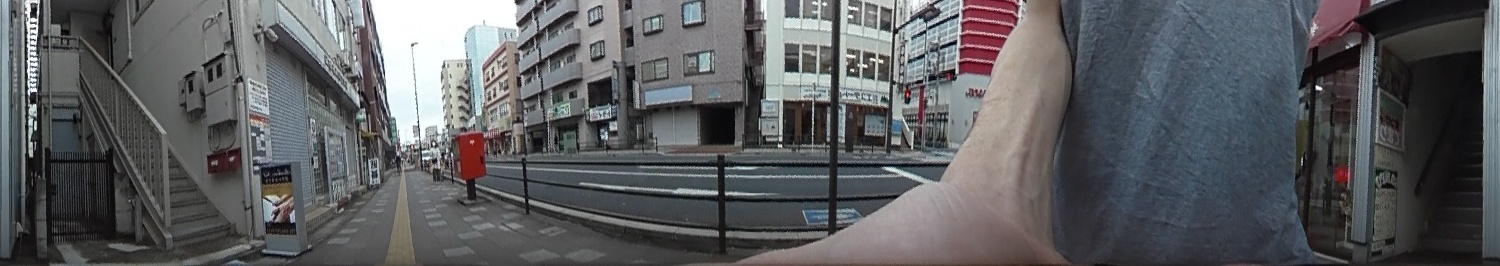difficult_person: (427, 138, 441, 181)
